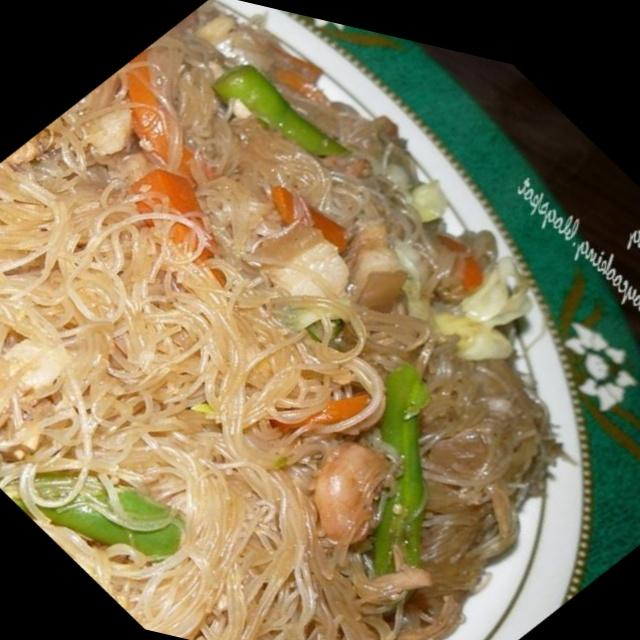pancit bihon: (0, 21, 521, 639)
